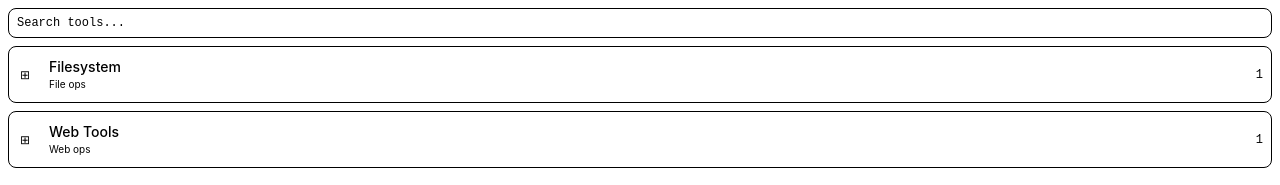
Test: ToolExplorer › filters groups by search
The image size is (1280, 185).
Type "web" into the field with placeholder "Search tools..." at (640, 23), box x1=8 y1=8 x2=1272 y2=38
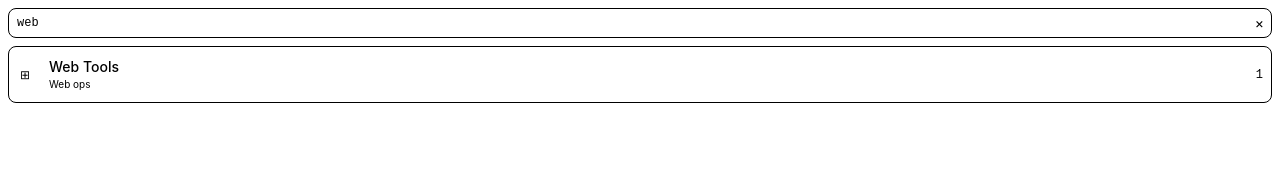
Expected: the text "Web Tools" is shown, x1=49 y1=58 x2=119 y2=75
Expected: the button "Filesystem" is gone
